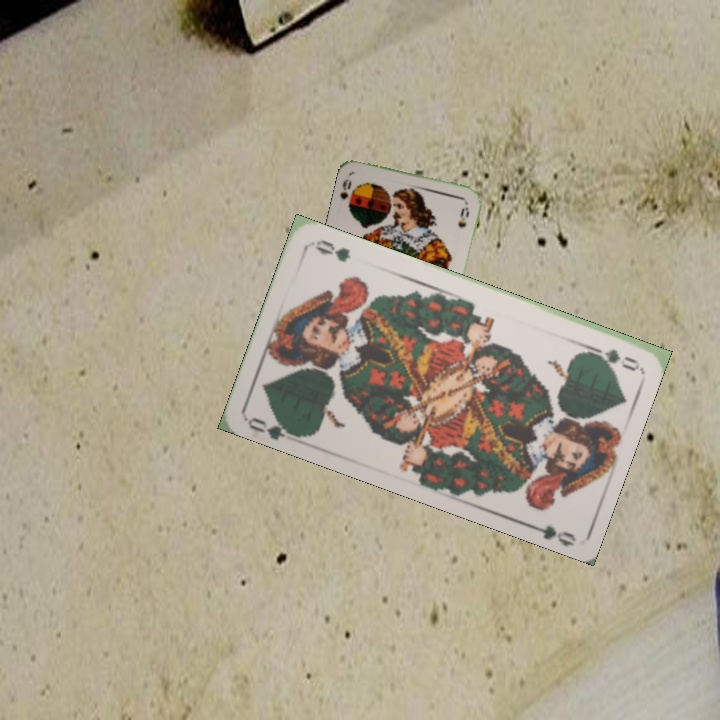GO: (581, 341, 641, 374), (245, 410, 304, 441)
SO: (336, 175, 354, 202)
